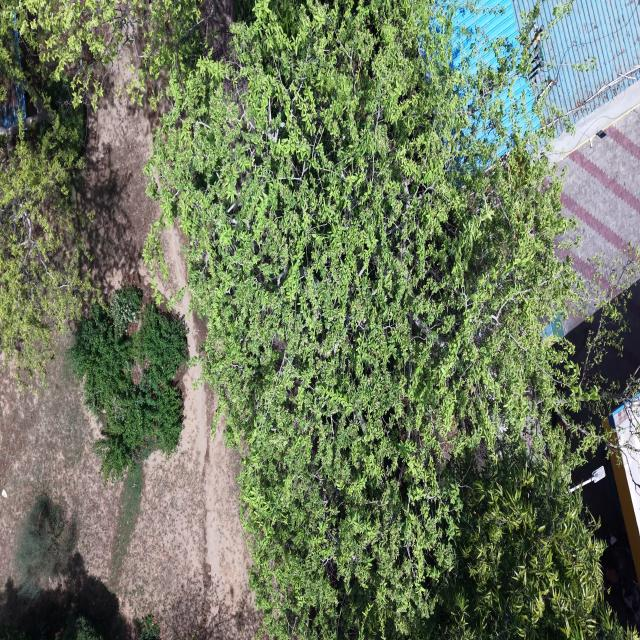DRY_AREA: (0, 336, 259, 639), (0, 336, 258, 639), (0, 336, 130, 638), (120, 366, 258, 638), (0, 336, 121, 585), (76, 59, 159, 295), (77, 86, 158, 294), (557, 109, 639, 289), (204, 428, 261, 638), (205, 429, 261, 638), (202, 0, 239, 58)
ROOFTOP_BUILDING: (453, 0, 639, 287), (517, 0, 639, 294), (453, 0, 639, 122), (558, 108, 639, 289), (533, 0, 639, 122), (0, 81, 26, 128), (0, 82, 26, 128)
VEGETATION_TREE: (8, 0, 625, 639), (147, 0, 622, 638), (0, 0, 207, 386), (424, 434, 624, 639), (0, 4, 89, 386), (0, 105, 89, 385), (0, 494, 160, 639), (69, 287, 187, 479), (2, 0, 205, 108), (0, 3, 68, 137), (16, 494, 75, 600), (111, 449, 151, 579), (109, 286, 142, 335), (59, 616, 103, 639), (62, 617, 102, 639), (138, 614, 161, 639), (0, 624, 26, 639)
